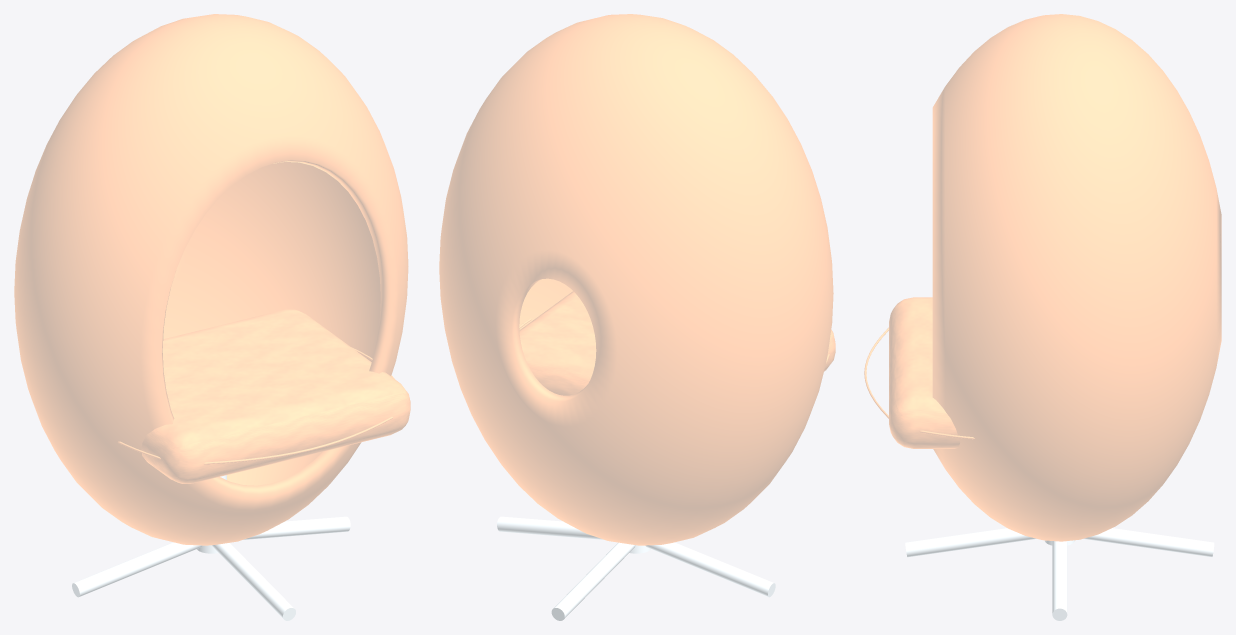
The model's file is ref05_09.glb.
3 views of the same model, side by side, from view 1: azimuth 30°, elevation 25°; view 2: azimuth 150°, elevation 25°; view 3: azimuth 270°, elevation 25° (orthographic).
Visible parts, largest first — view 1: ref05_09; view 2: ref05_09; view 3: ref05_09.
Part boxes in pixels (bbox=[...]): ref05_09: bbox=[14, 14, 410, 620]; ref05_09: bbox=[439, 14, 835, 620]; ref05_09: bbox=[864, 14, 1221, 620].
Size of the model in its own units: 0.9199 by 1.33 by 0.8153.
2 materials, 1 textured.
